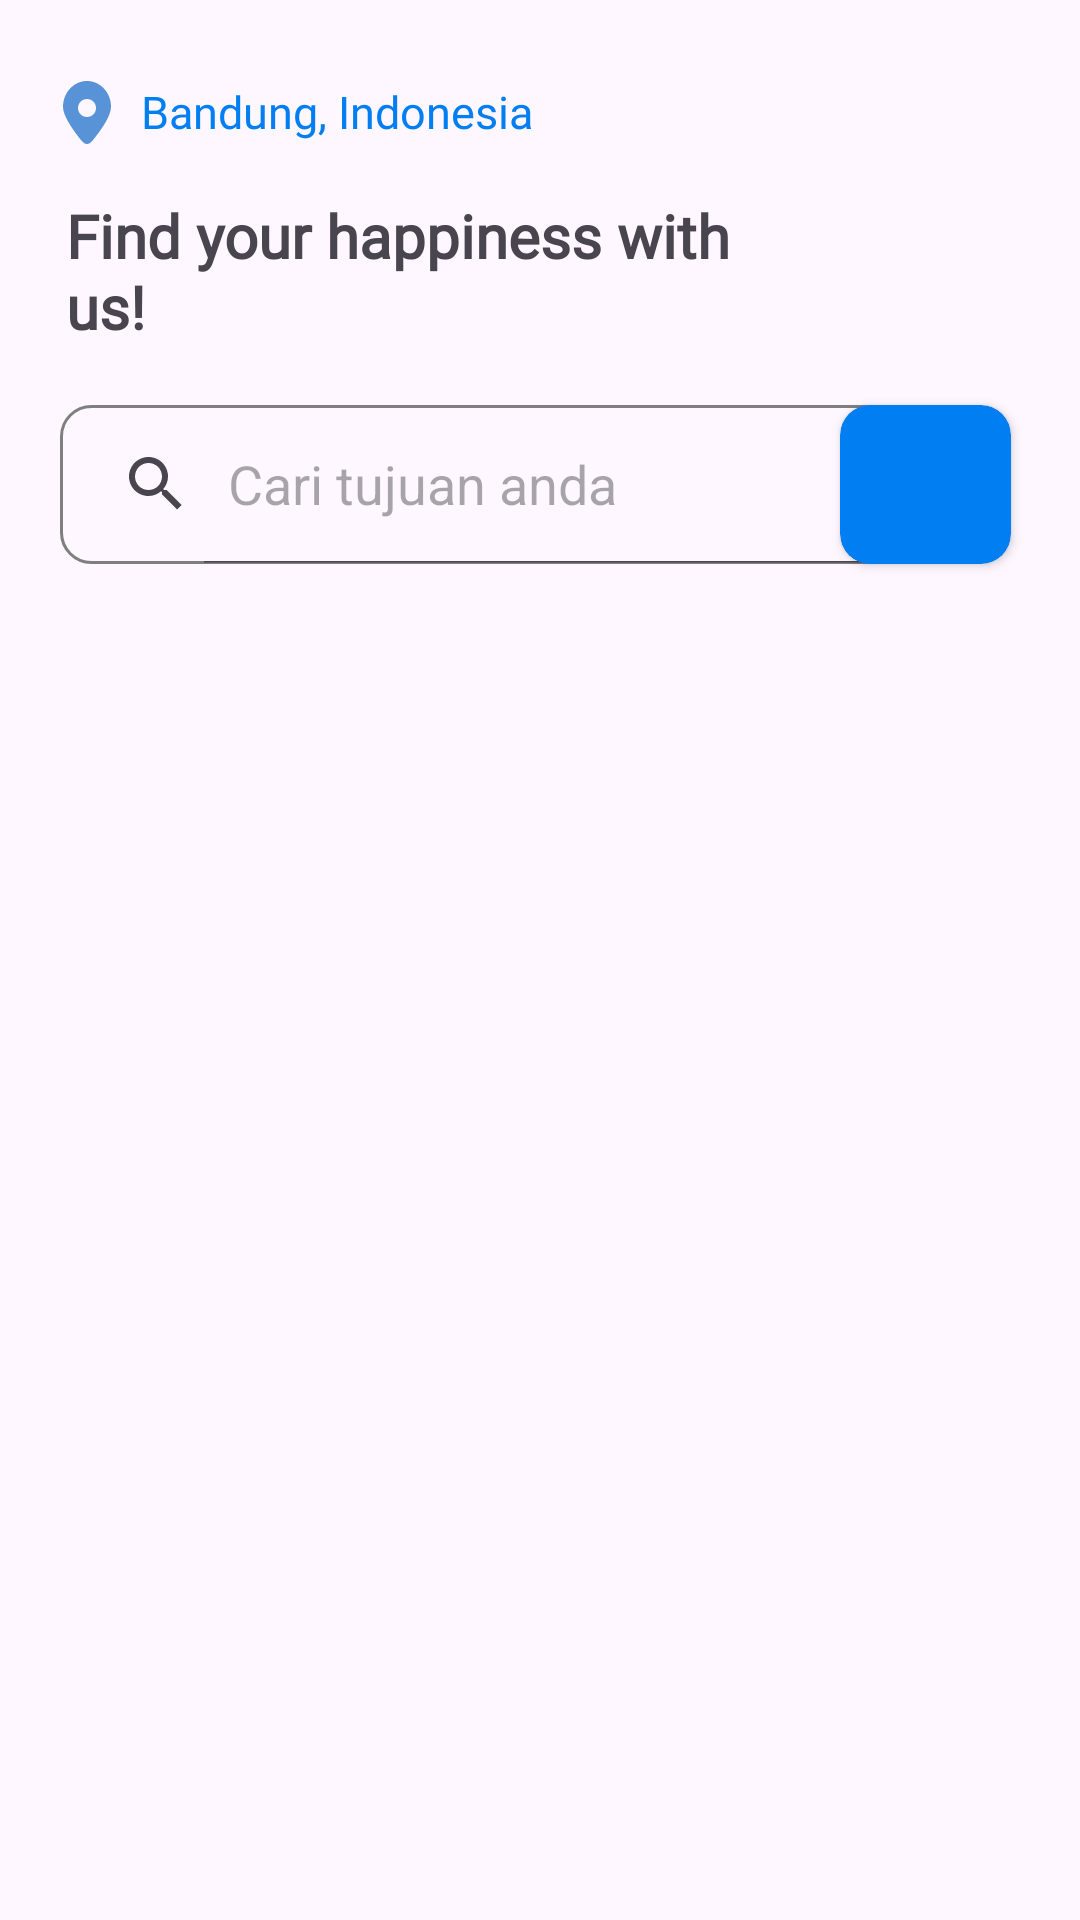

Icon click points for this 1080*1920 phone screenshot, format (x,y):
location: (87,112)
